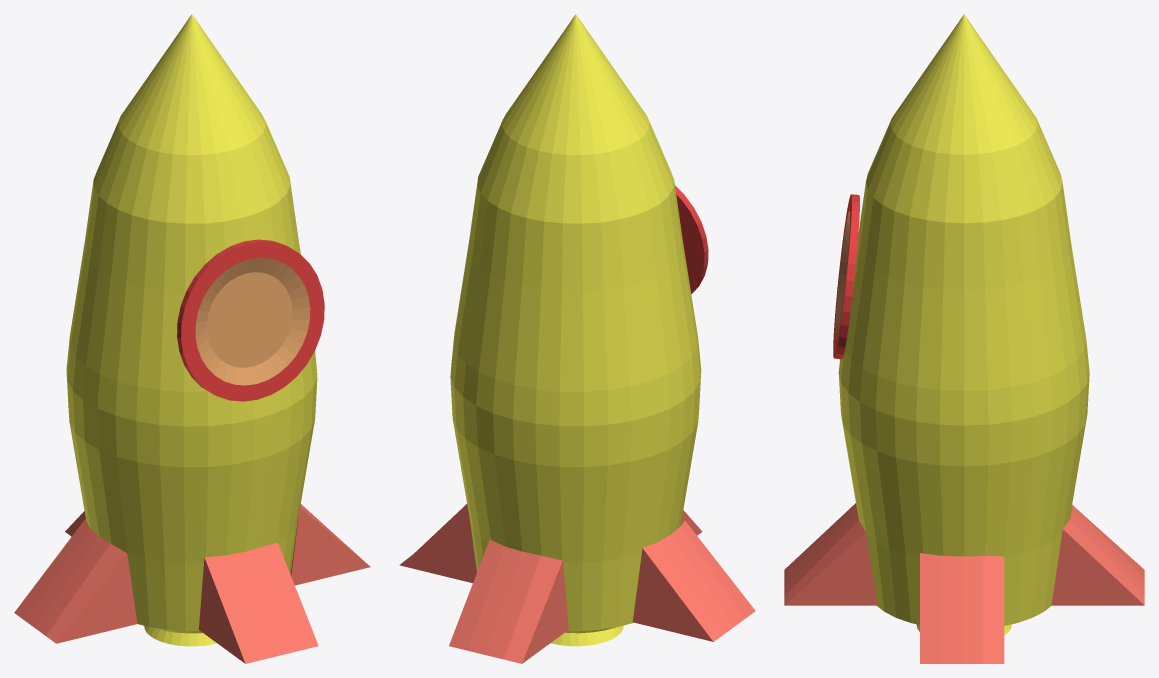
File: RocketMissle_2.fbx
3 views of the same model, side by side, from view 1: azimuth 30°, elevation 25°; view 2: azimuth 150°, elevation 25°; view 3: azimuth 270°, elevation 25° (orthographic).
Visible parts, largest first — view 1: Circle.001, Circle.002, Cube, Cube.003, Cube.002; view 2: Circle.001, Cube.001, Cube.003, Cube.002, Circle.002; view 3: Circle.001, Cube.002, Cube, Cube.001, Circle.002.
Boxes of the visible parts, x1,y1,x2,y2 form: Circle.001: (66, 14, 317, 646); Circle.002: (177, 239, 324, 401); Cube: (199, 543, 318, 663); Cube.003: (14, 519, 137, 643); Cube.002: (290, 504, 370, 585); Circle.001: (450, 14, 701, 646); Cube.001: (449, 539, 568, 663); Cube.003: (632, 521, 755, 641); Cube.002: (399, 504, 476, 583); Circle.002: (675, 185, 708, 293); Circle.001: (838, 14, 1089, 635); Cube.002: (920, 553, 1004, 663); Cube: (784, 503, 877, 605); Cube.001: (1051, 504, 1144, 605); Circle.002: (833, 194, 859, 359).
Bounding box in the file's own units: 78.31 × 146 × 77.92.
